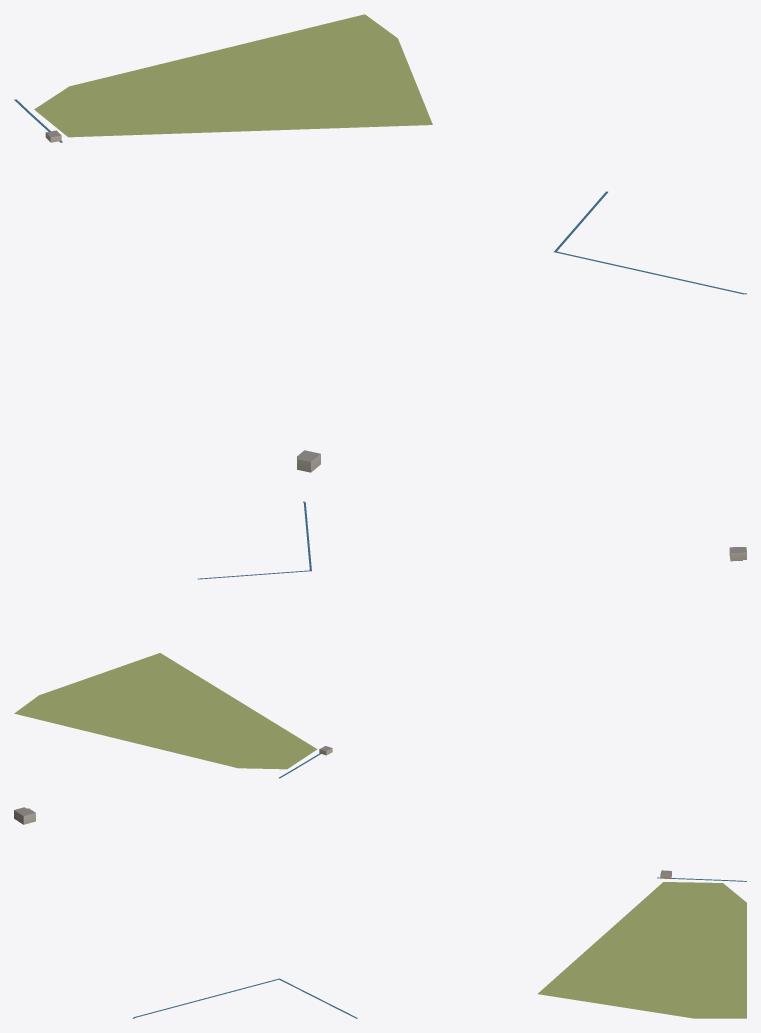
The picture shows the model from 3 angles, top to bottom: view 1: azimuth 30°, elevation 25°; view 2: azimuth 150°, elevation 25°; view 3: azimuth 270°, elevation 25°; orthographic projection. The views are drawn at different scales.
Visible parts, largest first — view 1: landuse; view 2: landuse; view 3: landuse, water.
Part boxes in pixels (x1,y1,x2,y2): landuse: [34, 14, 432, 137]; landuse: [14, 653, 317, 769]; landuse: [538, 882, 746, 1018]; water: [132, 877, 746, 1018].
Size of the model in its own units: 326 by 6.42 by 496.
